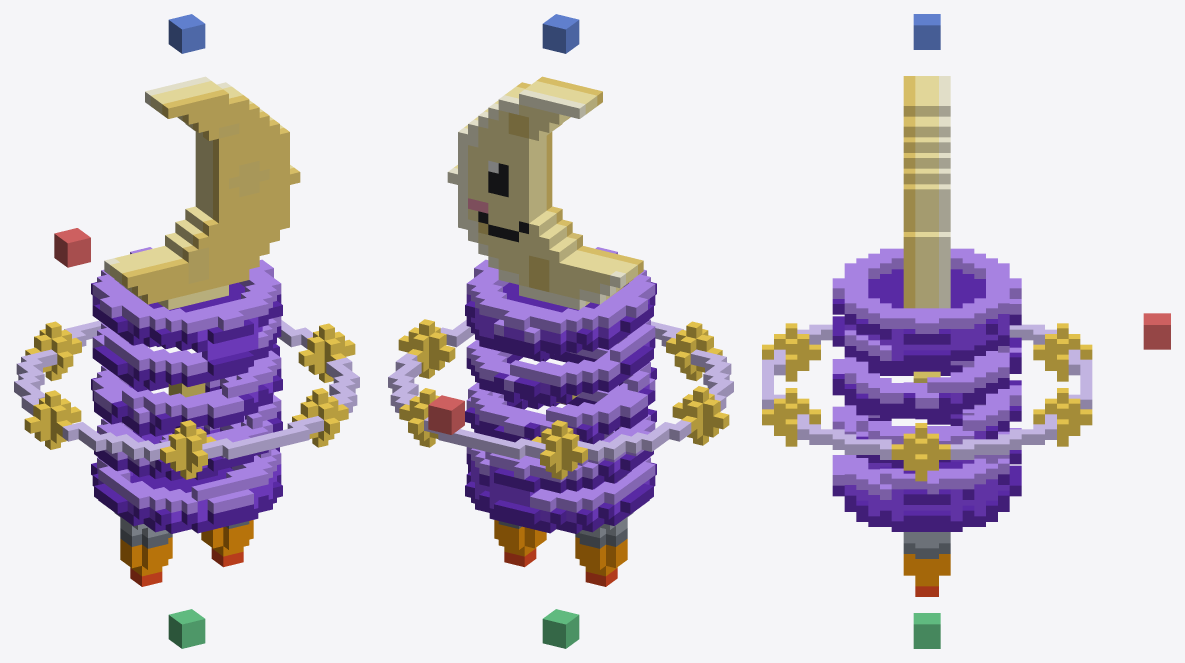
The model's file is GravitinoLunare.glb.
The picture shows the model from 3 angles, left to right: view 1: azimuth 30°, elevation 25°; view 2: azimuth 150°, elevation 25°; view 3: azimuth 270°, elevation 25°; orthographic projection.
Visible parts, largest first — view 1: GravitinoLunare_Body, GravitinoLunare_Head1, GravitinoLunare_Prop2, GravitinoLunare_Top, GravitinoLunare_Built, GravitinoLunare_Front; view 2: GravitinoLunare_Body, GravitinoLunare_Head1, GravitinoLunare_Prop2, GravitinoLunare_Top, GravitinoLunare_Built, GravitinoLunare_Front; view 3: GravitinoLunare_Body, GravitinoLunare_Prop2, GravitinoLunare_Head1, GravitinoLunare_Front, GravitinoLunare_Top, GravitinoLunare_Built.
Boxes of the visible parts, x1,y1,x2,y2 form: GravitinoLunare_Body: (91, 247, 282, 586); GravitinoLunare_Head1: (104, 76, 300, 309); GravitinoLunare_Prop2: (14, 320, 359, 479); GravitinoLunare_Top: (168, 14, 205, 53); GravitinoLunare_Built: (168, 609, 205, 648); GravitinoLunare_Front: (54, 228, 90, 267); GravitinoLunare_Body: (465, 247, 656, 586); GravitinoLunare_Head1: (447, 76, 643, 309); GravitinoLunare_Prop2: (388, 319, 733, 479); GravitinoLunare_Top: (542, 14, 579, 53); GravitinoLunare_Built: (542, 609, 579, 648); GravitinoLunare_Front: (428, 395, 464, 434); GravitinoLunare_Body: (832, 248, 1021, 596); GravitinoLunare_Prop2: (762, 323, 1092, 481); GravitinoLunare_Head1: (903, 76, 950, 308); GravitinoLunare_Front: (1143, 313, 1170, 349); GravitinoLunare_Top: (913, 14, 940, 49); GravitinoLunare_Built: (913, 613, 940, 648).
Size of the model in its own units: 3.48 by 6.34 by 3.77.
1 material, 1 textured.
